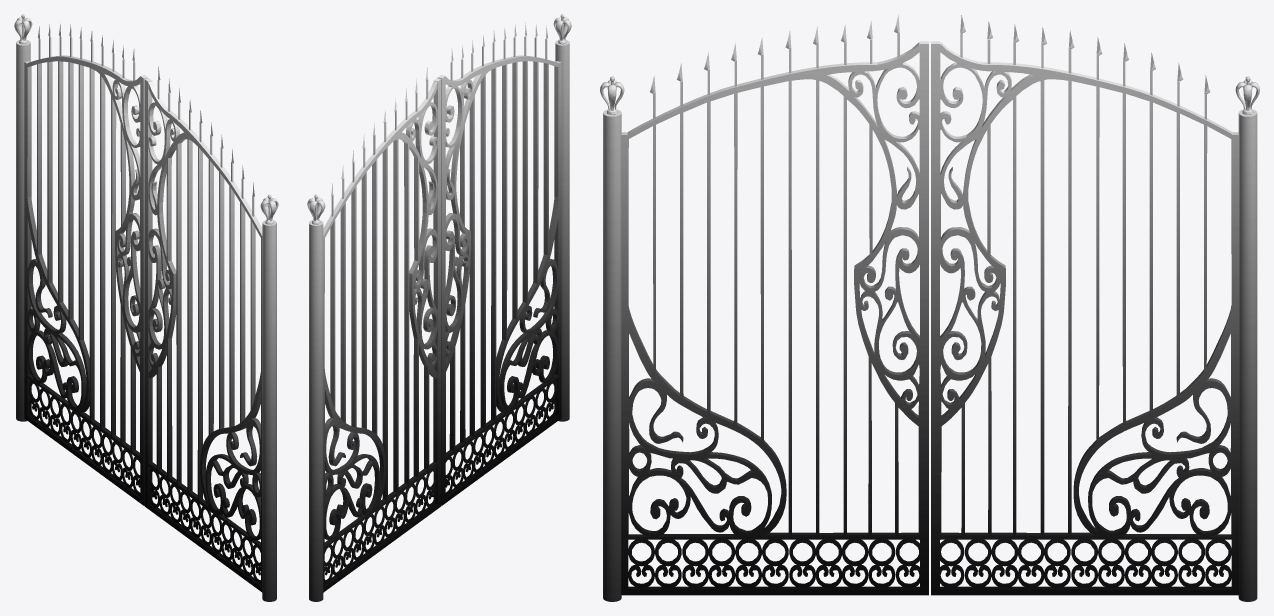
The model's file is tiemen.fbx.
3 renders of one model, left to right at view 1: azimuth 30°, elevation 25°; view 2: azimuth 150°, elevation 25°; view 3: azimuth 270°, elevation 25°, orthographic. The views are drawn at different scales.
Visible parts, largest first — view 1: polySurface3201, polySurface3202, Line02; view 2: polySurface3202, polySurface3201, Line02; view 3: polySurface3201, polySurface3202, Line02.
Part boxes in pixels (x1=…): polySurface3201: x1=24, y1=24, x2=147, y2=505; polySurface3202: x1=144, y1=66, x2=262, y2=592; Line02: x1=14, y1=14, x2=278, y2=601; polySurface3202: x1=437, y1=22, x2=561, y2=505; polySurface3201: x1=323, y1=67, x2=441, y2=592; Line02: x1=307, y1=14, x2=571, y2=601; polySurface3201: x1=931, y1=15, x2=1239, y2=595; polySurface3202: x1=621, y1=14, x2=928, y2=595; Line02: x1=600, y1=76, x2=1259, y2=601.
Size of the model in its own units: 36 by 955 by 978.
